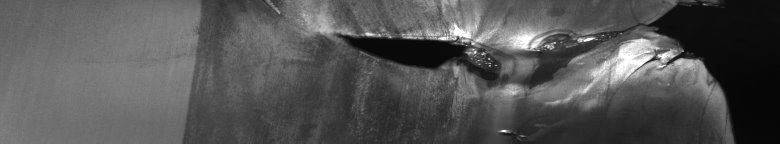ke: (269, 0, 735, 144)
